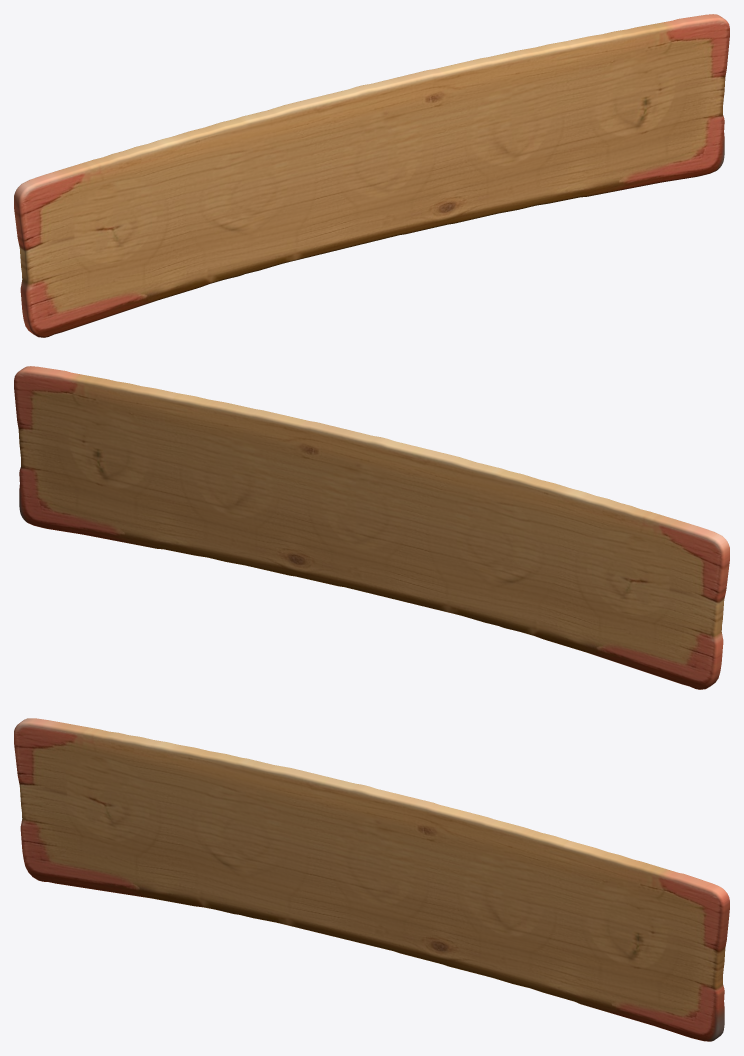
File: sign_plank.glb
The picture shows the model from 3 angles, top to bottom: view 1: azimuth 30°, elevation 25°; view 2: azimuth 150°, elevation 25°; view 3: azimuth 330°, elevation 25°; orthographic projection.
Visible parts, largest first — view 1: sign_plank; view 2: sign_plank; view 3: sign_plank.
Boxes of the visible parts, bbox=[...] form: sign_plank: bbox=[14, 14, 729, 337]; sign_plank: bbox=[14, 366, 729, 689]; sign_plank: bbox=[14, 718, 729, 1041].
Bounding box in the file's own units: 11.94 × 2.73 × 0.2183.
Materials: 1 (1 with a texture image).
